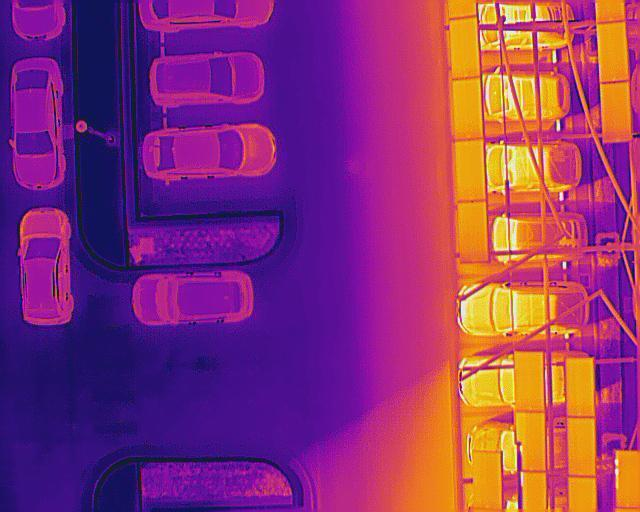No-Anomaly: (458, 199, 489, 262), (514, 352, 545, 412), (455, 139, 484, 202), (454, 77, 483, 140), (598, 21, 627, 82), (473, 451, 503, 509), (566, 358, 595, 417), (451, 17, 479, 78), (602, 82, 630, 142), (568, 416, 595, 477), (523, 414, 547, 471)
Unclassified: (614, 450, 640, 509)
